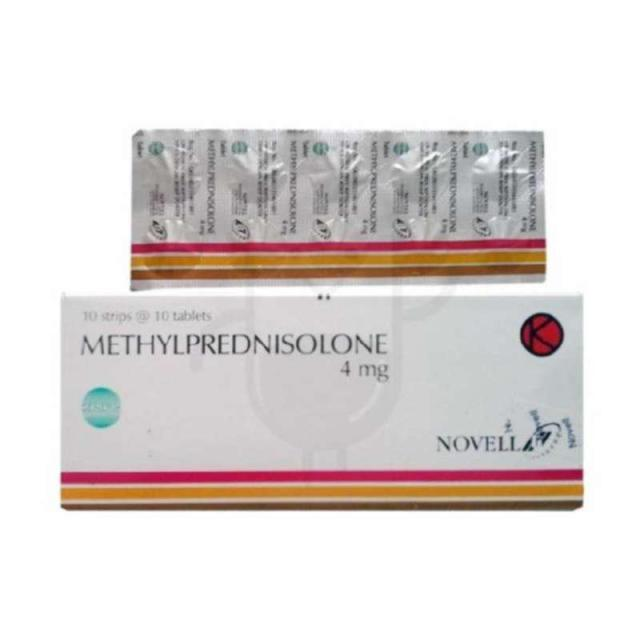drug-name: (73, 328, 396, 358)
